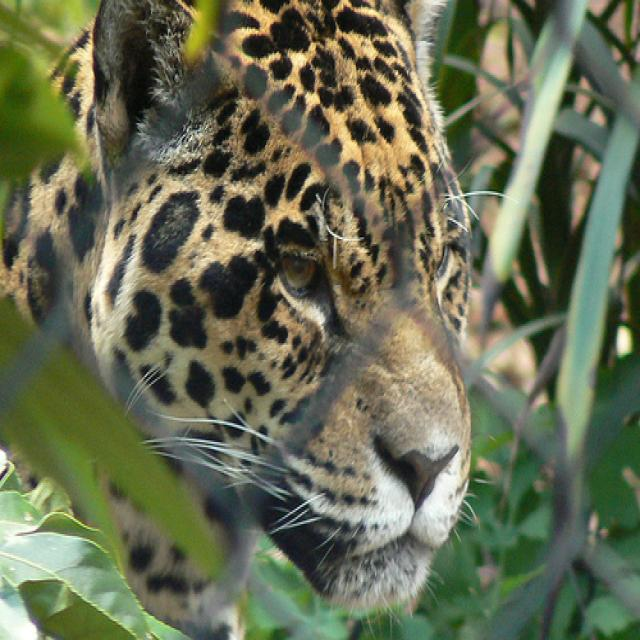Leopard: (0, 0, 521, 637)
